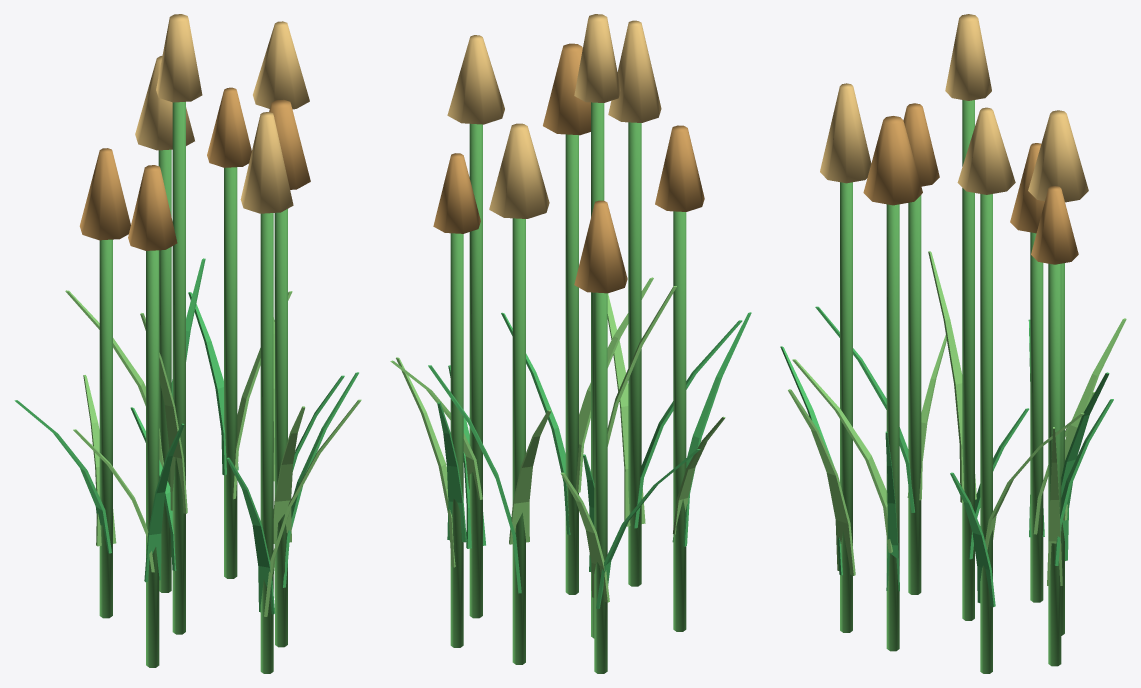
Rendered from FTF_Nature_Reeds_Clump.glb.
The picture shows the model from 3 angles, left to right: view 1: azimuth 30°, elevation 25°; view 2: azimuth 150°, elevation 25°; view 3: azimuth 270°, elevation 25°; orthographic projection. The views are drawn at different scales.
Parts seen in each view (by area): view 1: Reed_Stem_01, Reed_Stem_07, Reed_Stem_06, Reed_Stem_00, Reed_Stem_04, Reed_Stem_02, Reed_Stem_05, Reed_SeedHead_07, Reed_SeedHead_04, Reed_SeedHead_03, Reed_SeedHead_01, Reed_SeedHead_00 (+17 smaller); view 2: Reed_Stem_07, Reed_Stem_03, Reed_Stem_02, Reed_Stem_00, Reed_Stem_05, Reed_Stem_06, Reed_Stem_04, Reed_SeedHead_05, Reed_SeedHead_07, Reed_SeedHead_03, Reed_SeedHead_04, Reed_SeedHead_01 (+19 smaller); view 3: Reed_Stem_01, Reed_Stem_03, Reed_Stem_00, Reed_Stem_02, Reed_Stem_07, Reed_Stem_04, Reed_Stem_06, Reed_SeedHead_02, Reed_SeedHead_05, Reed_SeedHead_07, Reed_SeedHead_03, Reed_SeedHead_01 (+18 smaller).
Boxes of the visible parts, <box> form: Reed_Stem_01: <box>172,102,185,634</box>; Reed_Stem_07: <box>260,213,273,673</box>; Reed_Stem_06: <box>224,167,237,578</box>; Reed_Stem_00: <box>146,250,159,667</box>; Reed_Stem_04: <box>99,239,112,618</box>; Reed_Stem_02: <box>275,209,287,647</box>; Reed_Stem_05: <box>158,149,171,592</box>; Reed_SeedHead_07: <box>240,112,293,213</box>; Reed_SeedHead_04: <box>79,148,130,240</box>; Reed_SeedHead_03: <box>253,21,309,109</box>; Reed_SeedHead_01: <box>156,14,202,102</box>; Reed_SeedHead_00: <box>128,165,177,250</box>; Reed_Stem_07: <box>628,122,641,586</box>; Reed_Stem_03: <box>469,123,482,618</box>; Reed_Stem_02: <box>565,134,578,594</box>; Reed_Stem_00: <box>673,211,686,631</box>; Reed_Stem_05: <box>512,218,525,664</box>; Reed_Stem_06: <box>450,233,463,647</box>; Reed_Stem_04: <box>594,292,607,673</box>; Reed_SeedHead_05: <box>489,123,549,218</box>; Reed_SeedHead_07: <box>608,20,661,122</box>; Reed_SeedHead_03: <box>447,35,504,124</box>; Reed_SeedHead_04: <box>574,200,627,293</box>; Reed_SeedHead_01: <box>574,14,620,102</box>; Reed_Stem_01: <box>962,100,974,620</box>; Reed_Stem_03: <box>980,194,992,673</box>; Reed_Stem_00: <box>908,195,921,594</box>; Reed_Stem_02: <box>886,204,899,651</box>; Reed_Stem_07: <box>840,182,852,632</box>; Reed_Stem_04: <box>1030,232,1043,602</box>; Reed_Stem_06: <box>1048,263,1061,666</box>; Reed_SeedHead_02: <box>863,116,922,205</box>; Reed_SeedHead_05: <box>1028,110,1088,202</box>; Reed_SeedHead_07: <box>820,83,871,183</box>; Reed_SeedHead_03: <box>957,107,1015,194</box>; Reed_SeedHead_01: <box>945,14,991,100</box>.
Bounding box in the file's own units: 0.9124 × 1.84 × 0.9649.
